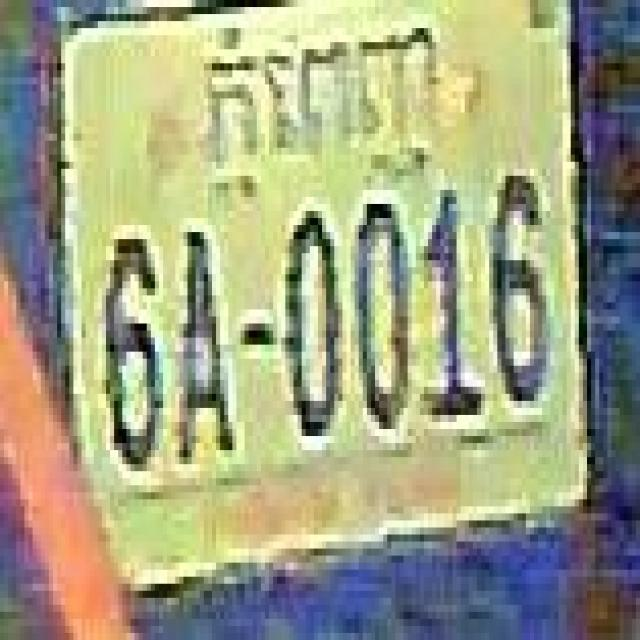Phnom_Penh: (204, 21, 427, 196)
